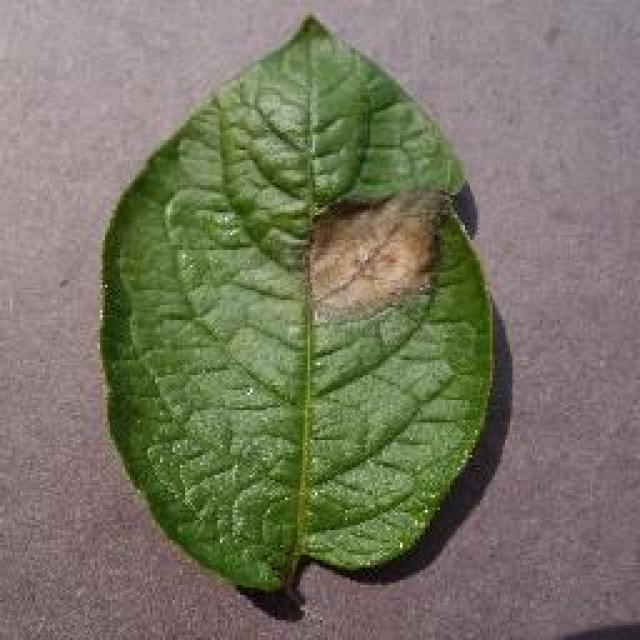late_blight: (92, 12, 498, 598)
